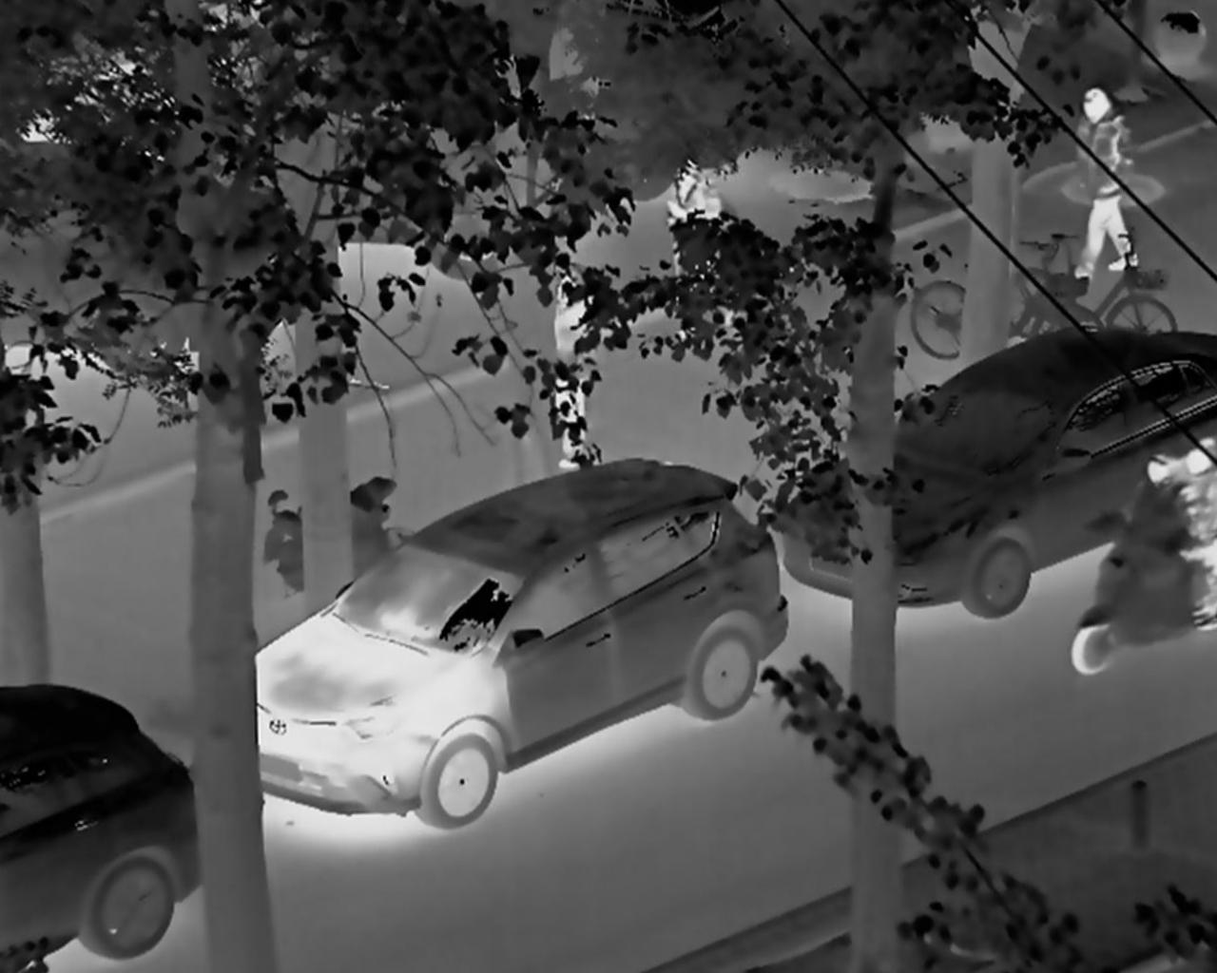person: (535, 223, 613, 498), (1068, 85, 1160, 280), (670, 161, 740, 338), (1175, 436, 1217, 616), (1145, 448, 1188, 610)
